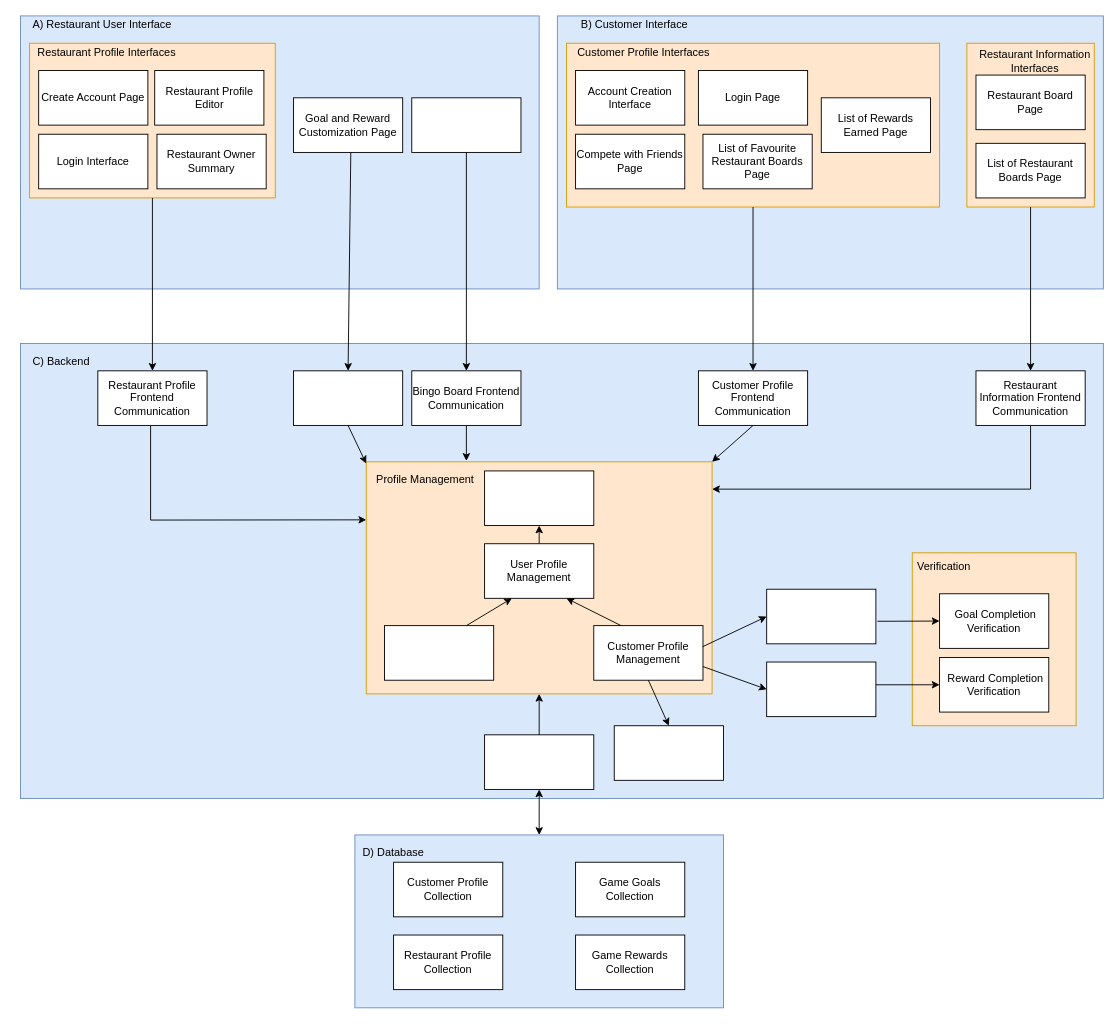
Some shapes in this 1119 by 1024 pixel diagram are drawn without their labels. The shapes that lost their labels are listed below. From the top down, each one's box as (x1, y1, x2, y2) in pixels, then its label:
(411, 97, 521, 152): Bingo Board Editor
(293, 370, 403, 425): Goals and Rewards Customization Frontend Communication
(484, 470, 594, 526): User Authentication
(766, 588, 876, 644): Goal Completion Modifier
(384, 625, 494, 680): Restaurant Profile Management
(766, 661, 876, 717): Reward Completion Modifier
(484, 734, 594, 789): Database Communication
(613, 725, 723, 780): Friend Reward Comparison
